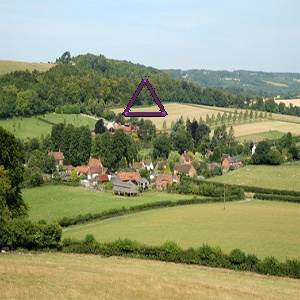triangle: (119, 76, 169, 119)
